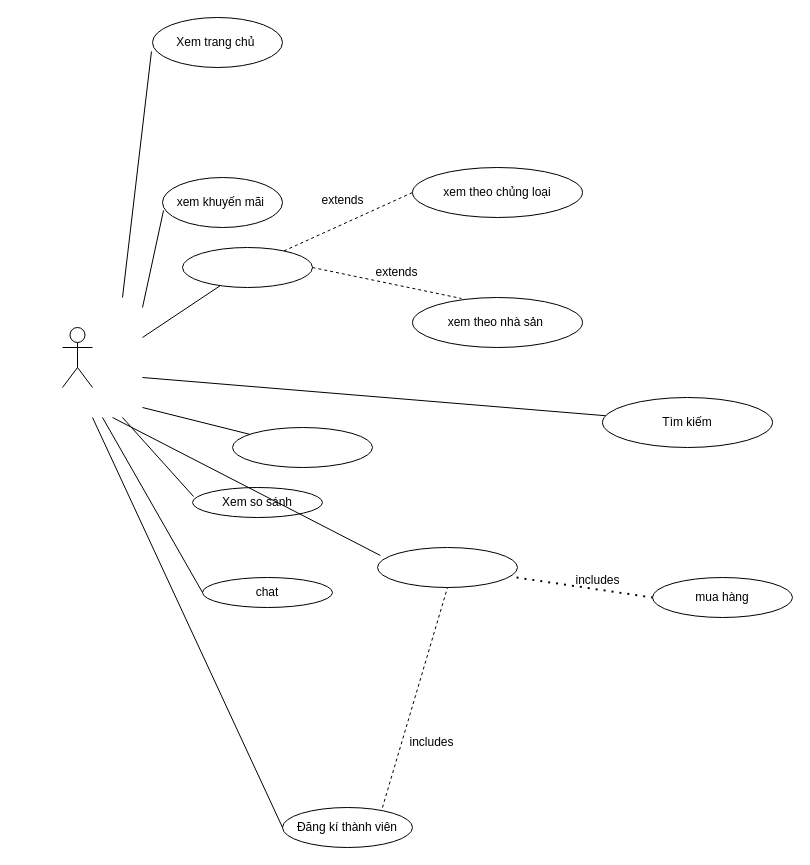
This 810x865 diagram has some shape labels left out. Each missing label, with the box of its shape:
khách hàng tiềm năng: (62, 326, 92, 388)
Xem chi tiết sản phẩm: (232, 426, 372, 468)
Xem quản lí giỏ hàng: (376, 546, 518, 588)
Xem sản phẩm: (182, 246, 312, 288)
